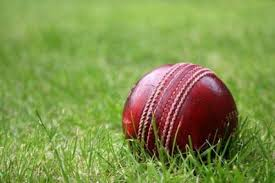red ball: (121, 62, 240, 165)
